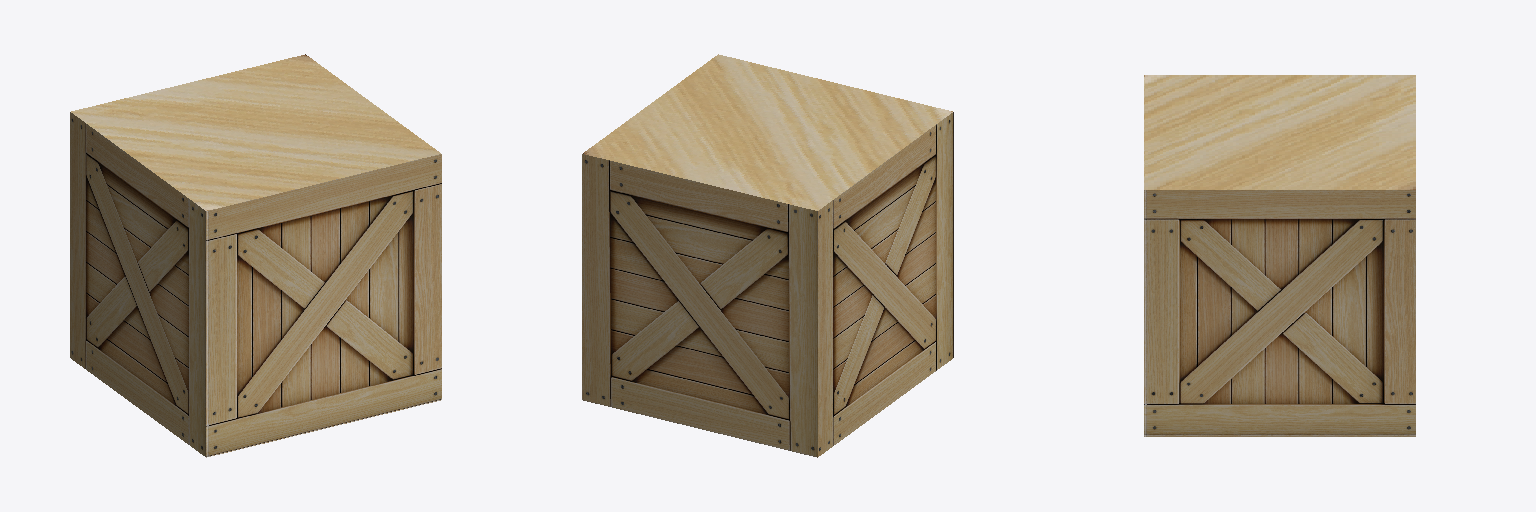
3 renders of one model, left to right at view 1: azimuth 30°, elevation 25°; view 2: azimuth 150°, elevation 25°; view 3: azimuth 270°, elevation 25°, orthographic.
Parts seen in each view (by area): view 1: Cube; view 2: Cube; view 3: Cube.
Part boxes in pixels (x1,y1,x2,y2): Cube: (70, 54, 441, 457); Cube: (582, 54, 953, 457); Cube: (1144, 75, 1415, 436).
Size of the model in its own units: 2 by 2 by 2.
Materials: 1 (1 with a texture image).